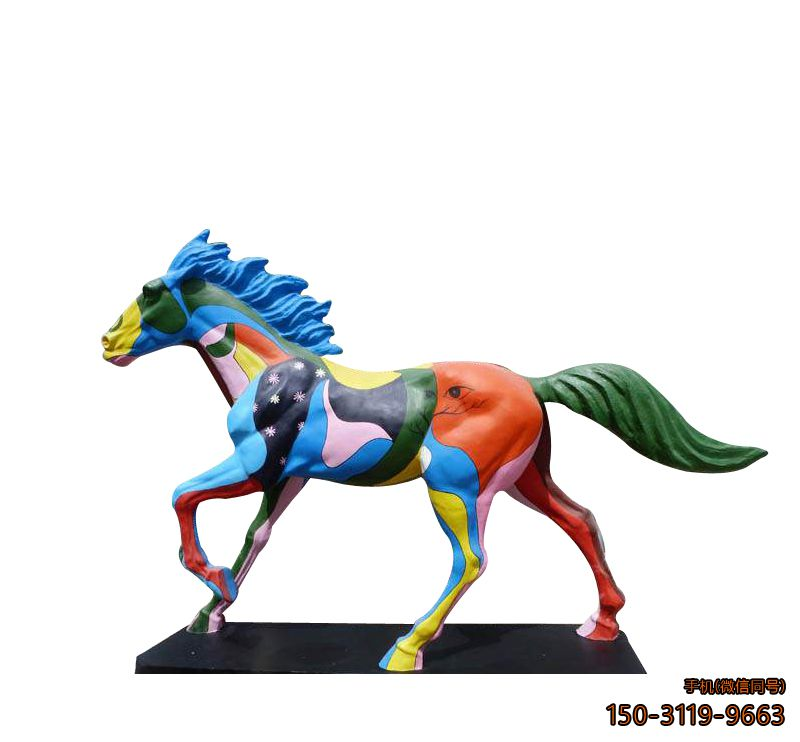background: (89, 229, 776, 671)
